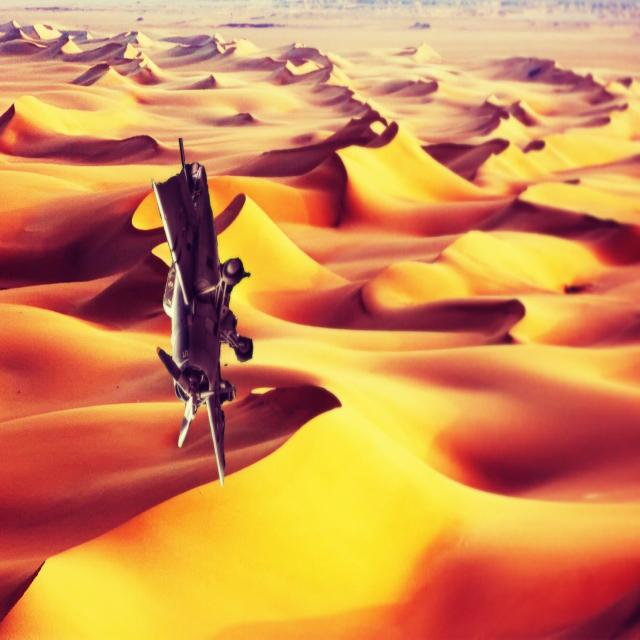airplane: (150, 136, 253, 487)
